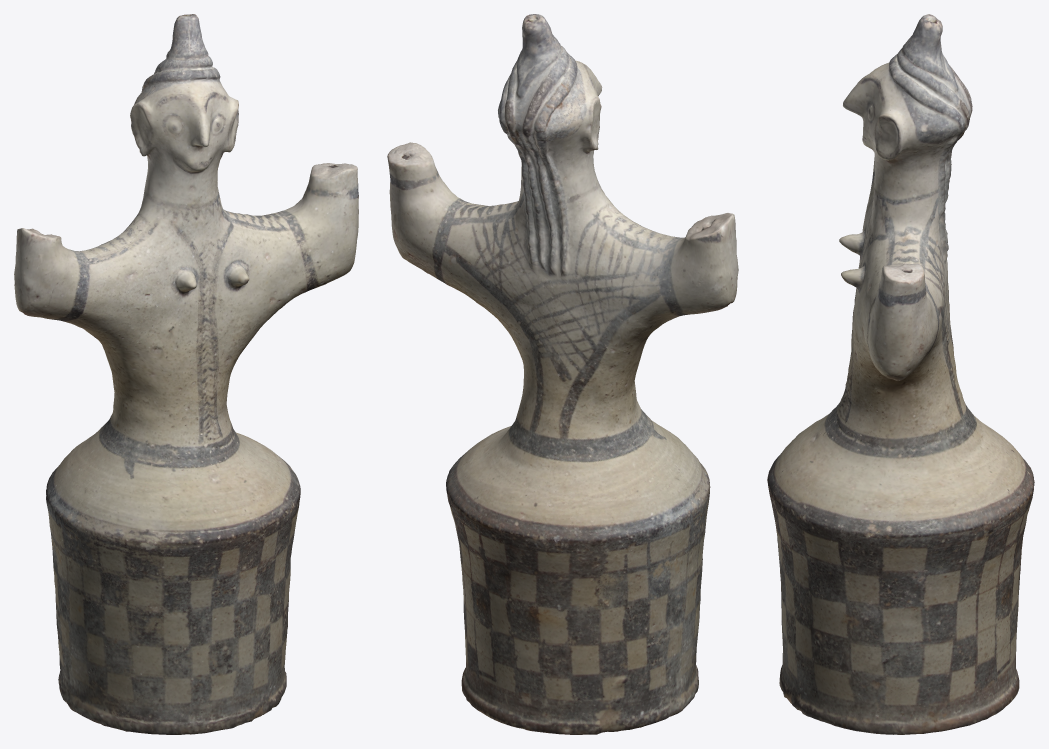
File: Eidolio.fbx
3 views of the same model, side by side, from view 1: azimuth 30°, elevation 25°; view 2: azimuth 150°, elevation 25°; view 3: azimuth 270°, elevation 25° (orthographic). The views are drawn at different scales.
Parts seen in each view (by area): view 1: Eidolio-Sony; view 2: Eidolio-Sony; view 3: Eidolio-Sony.
Boxes of the visible parts, x1=… form: Eidolio-Sony: x1=14, y1=14, x2=358, y2=734; Eidolio-Sony: x1=387, y1=14, x2=738, y2=734; Eidolio-Sony: x1=767, y1=14, x2=1034, y2=734.
Size of the model in its own units: 27.16 by 17.92 by 50.53.
Materials: 2 (1 with a texture image).
